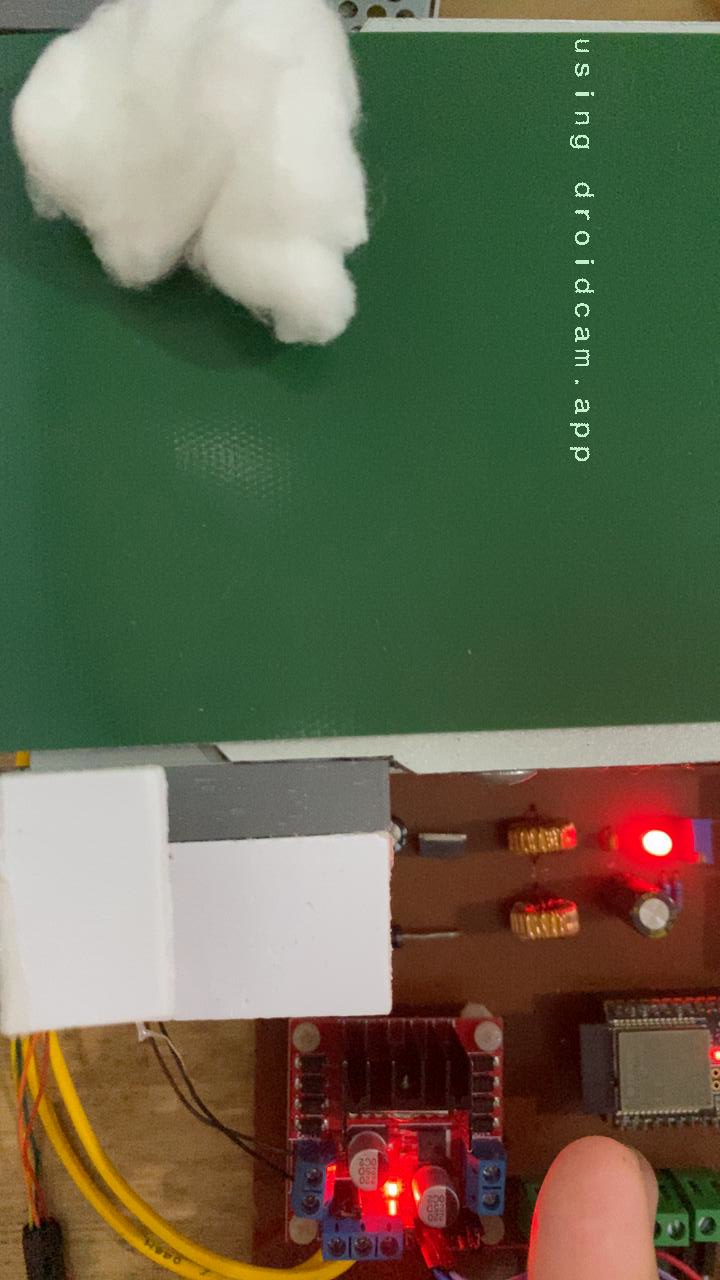cotton: (4, 32, 377, 350)
